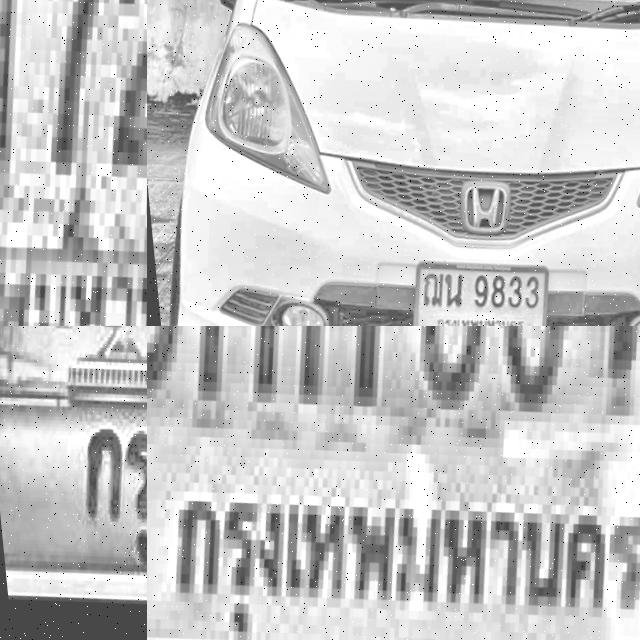license-plate: (147, 326, 640, 640), (0, 0, 147, 326), (0, 326, 147, 640), (394, 254, 546, 326)
